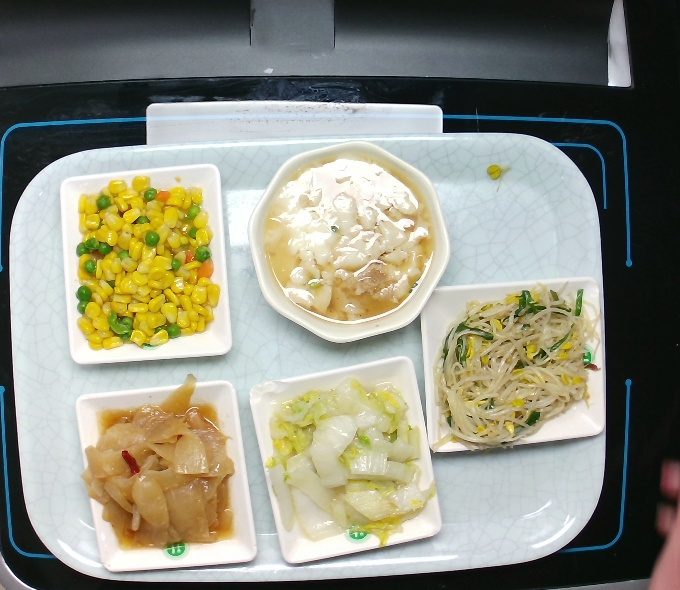wcq-DaBaiCai: (263, 372, 439, 555)
wcq-DongGua: (76, 371, 248, 556)
wcq-DouYa: (421, 278, 605, 460)
wcq-ShuiZhengDan: (254, 146, 445, 333)
wcq-TianMiTianDou: (70, 172, 227, 354)
